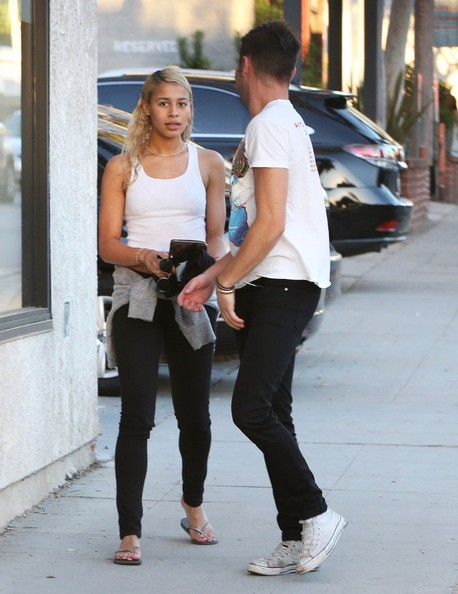Person: (177, 21, 349, 576), (98, 67, 225, 566)
